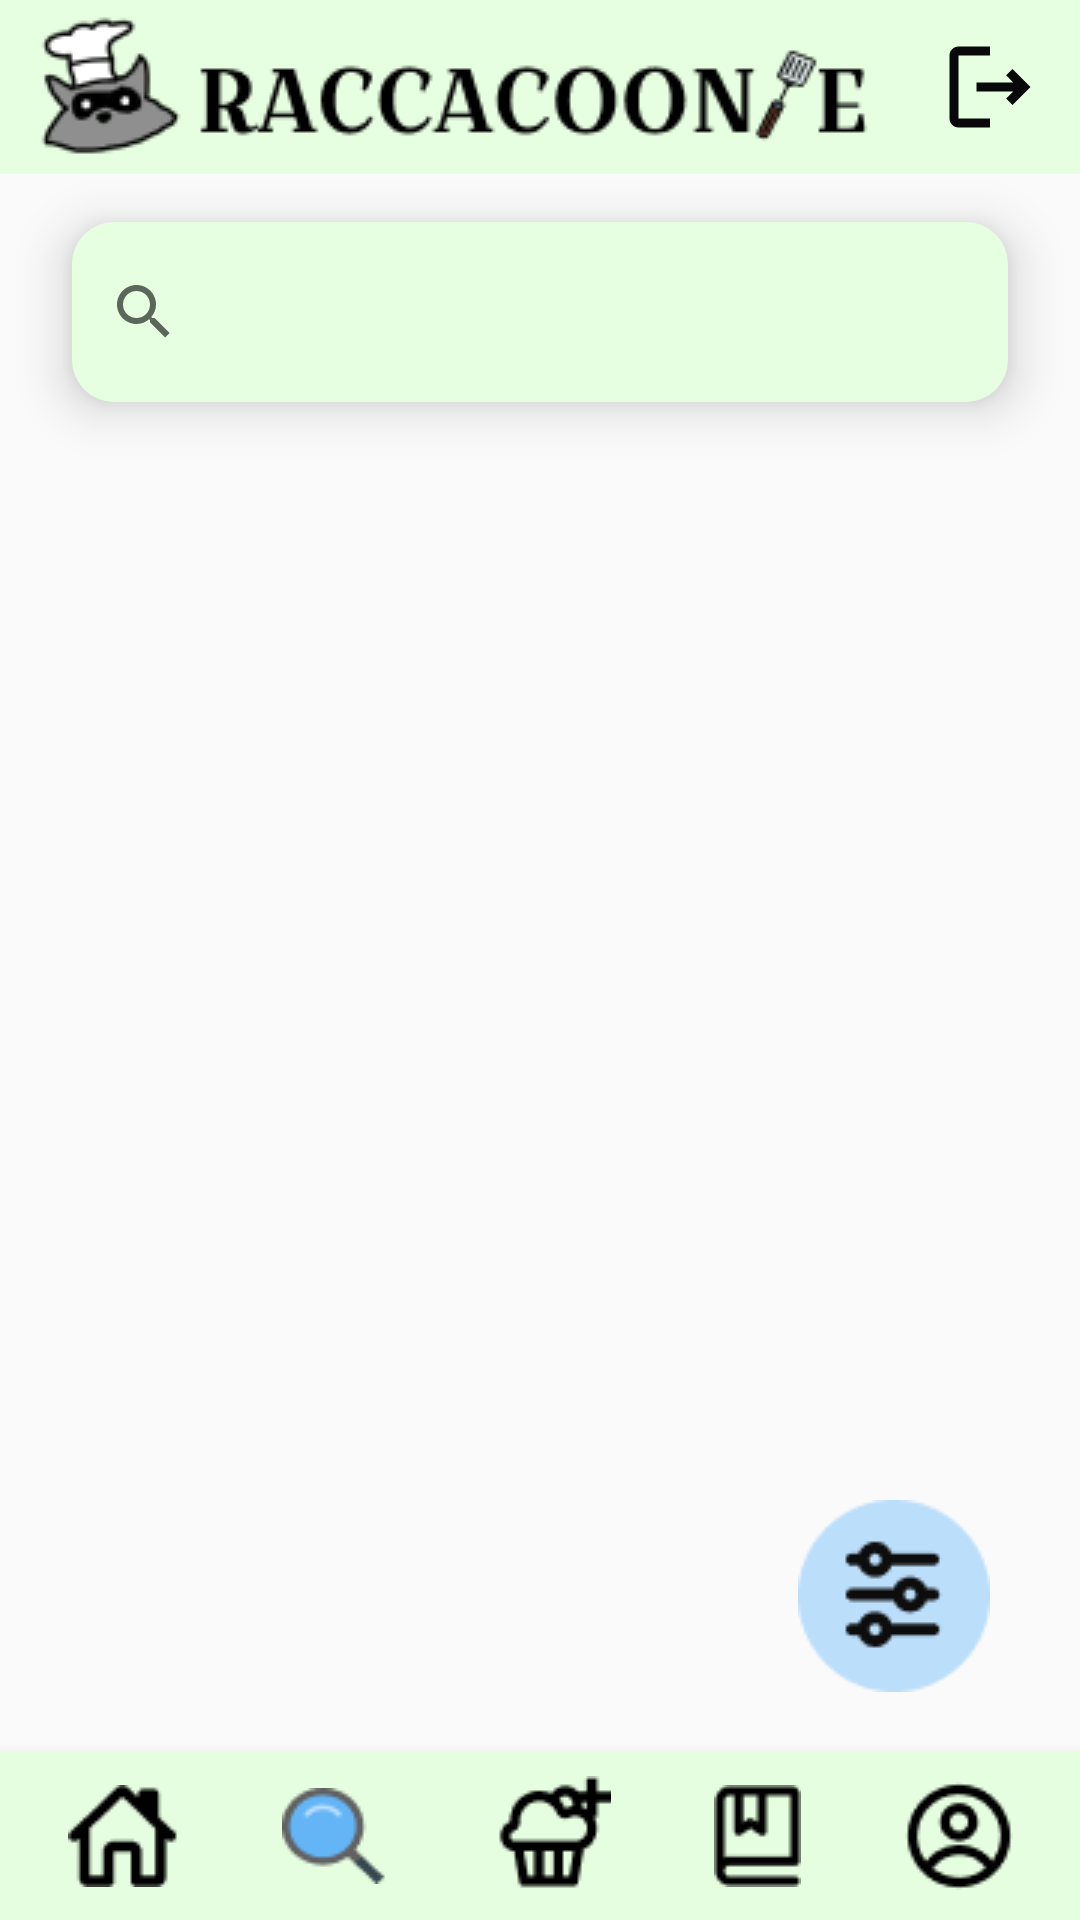

Screen size 1080*1920. Icon name, then its center in pixels as point (x, y):
create: point (555, 1832)
Filters: point (894, 1596)
home: point (122, 1836)
profile: point (959, 1836)
saved: point (757, 1836)
